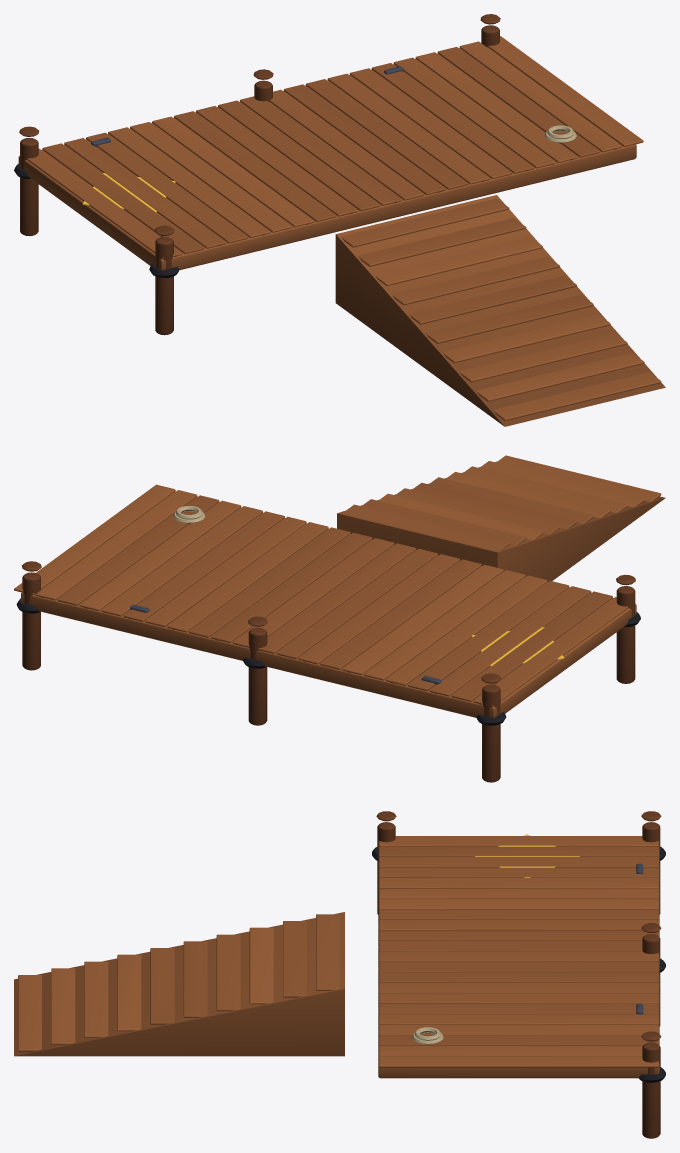
The model's file is SM_Tank_Dock.fbx.
The picture shows the model from 3 angles, top to bottom: view 1: azimuth 30°, elevation 25°; view 2: azimuth 150°, elevation 25°; view 3: azimuth 270°, elevation 25°; orthographic projection. The views are drawn at different scales.
Parts seen in each view (by area): view 1: SM_Tank_Dock; view 2: SM_Tank_Dock; view 3: SM_Tank_Dock.
Boxes of the visible parts, <box> form: SM_Tank_Dock: <box>14,14,665,426</box>; SM_Tank_Dock: <box>14,455,665,782</box>; SM_Tank_Dock: <box>14,811,665,1138</box>.
Size of the model in its own units: 668 by 134 by 788.
